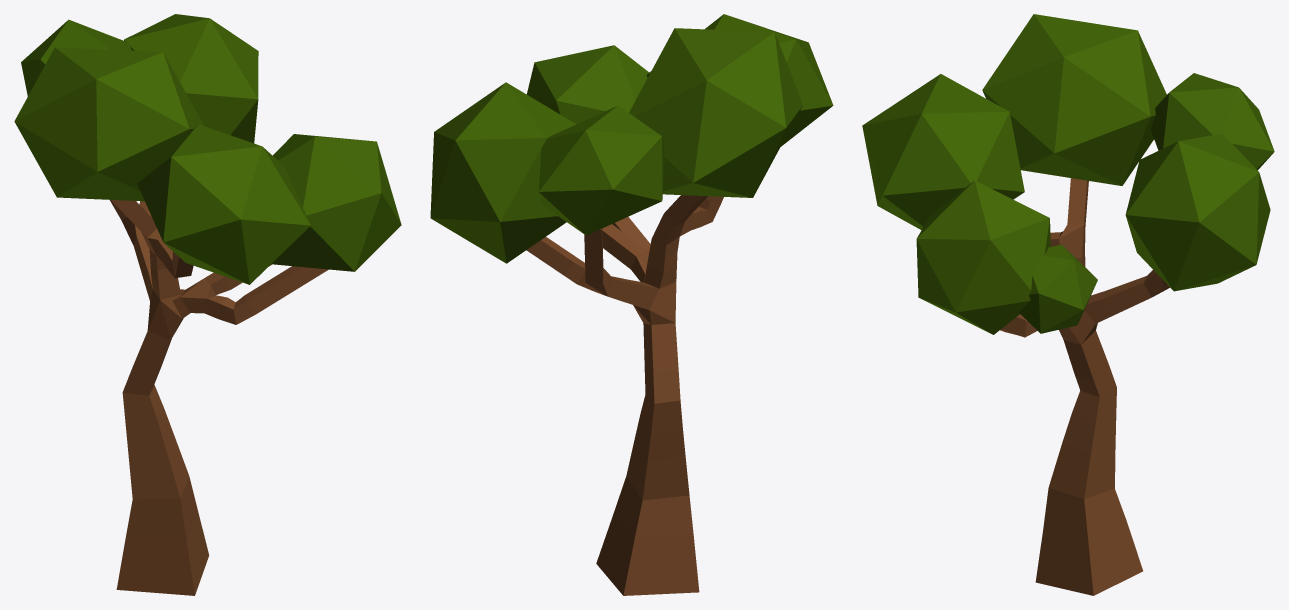
The model's file is Tree.glb.
The picture shows the model from 3 angles, left to right: view 1: azimuth 30°, elevation 25°; view 2: azimuth 150°, elevation 25°; view 3: azimuth 270°, elevation 25°; orthographic projection. The views are drawn at different scales.
Visible parts, largest first — view 1: Cube, Icosphere.002, Icosphere.003, Icosphere.004, Icosphere, Icosphere.001; view 2: Cube, Icosphere.002, Icosphere, Icosphere.001, Icosphere.004, Icosphere.003; view 3: Icosphere.002, Cube, Icosphere, Icosphere.003, Icosphere.004, Icosphere.001, Icosphere.005.
Boxes of the visible parts, left/top/right/bottom form: Cube: left=110, top=200, right=328, bottom=595; Icosphere.002: left=14, top=47, right=204, bottom=201; Icosphere.003: left=137, top=124, right=310, bottom=284; Icosphere.004: left=272, top=134, right=401, bottom=271; Icosphere: left=124, top=14, right=258, bottom=143; Icosphere.001: left=21, top=19, right=131, bottom=96; Cube: left=526, top=195, right=723, bottom=595; Icosphere.002: left=629, top=28, right=802, bottom=197; Icosphere: left=430, top=82, right=576, bottom=263; Icosphere.001: left=538, top=105, right=664, bottom=235; Icosphere.004: left=526, top=45, right=648, bottom=124; Icosphere.003: left=646, top=14, right=833, bottom=146; Icosphere.002: left=982, top=14, right=1166, bottom=185; Cube: left=1000, top=178, right=1169, bottom=595; Icosphere: left=1125, top=133, right=1270, bottom=291; Icosphere.003: left=862, top=74, right=1024, bottom=229; Icosphere.004: left=916, top=180, right=1050, bottom=334; Icosphere.001: left=1150, top=73, right=1274, bottom=170; Icosphere.005: left=1019, top=244, right=1097, bottom=333.
Size of the model in its own units: 2.37 by 3.94 by 2.82.
